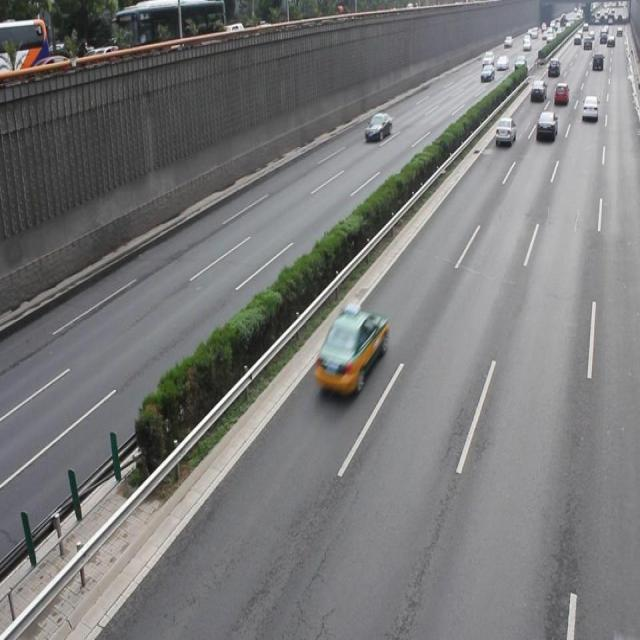car: (312, 306, 388, 396)
